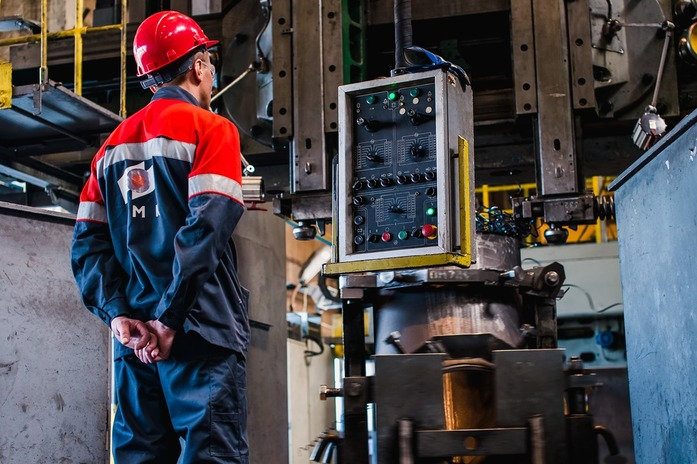person: (70, 10, 252, 464)
